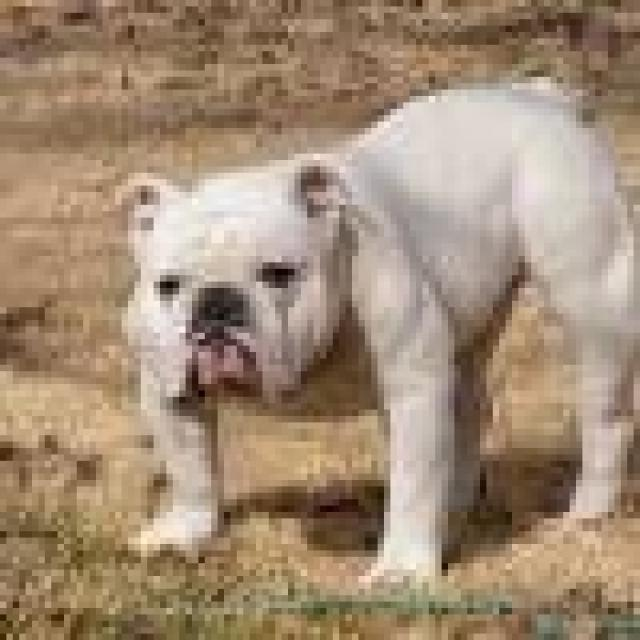Dog: (115, 70, 640, 592)
